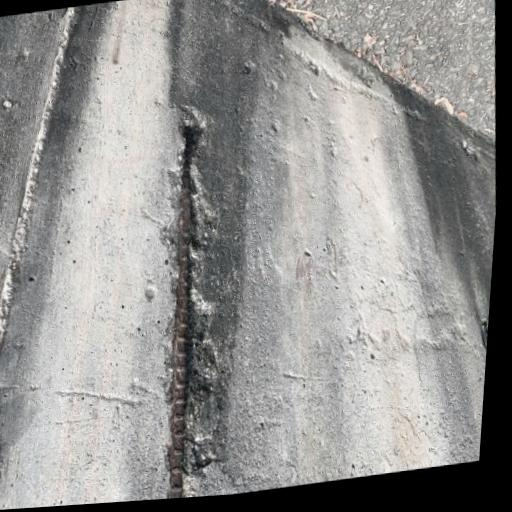exposed_rebar: (169, 124, 199, 498)
